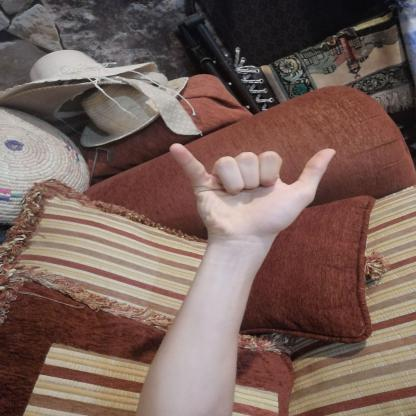YA: (158, 131, 350, 255)
